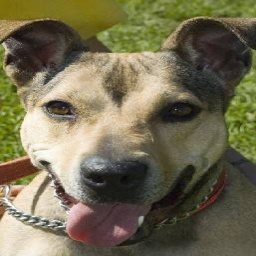dog: (3, 16, 256, 256)
